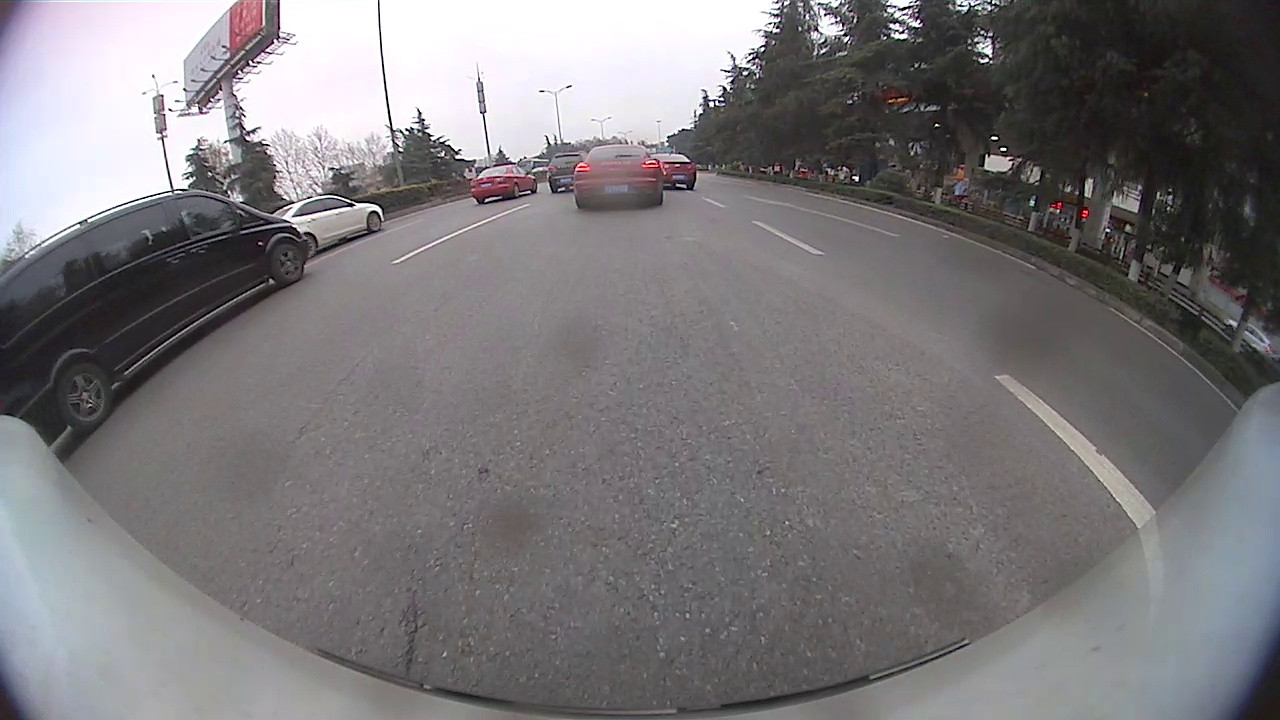car: (2, 192, 312, 438), (275, 190, 388, 250), (571, 145, 665, 210), (472, 166, 536, 206), (654, 151, 699, 193), (549, 151, 588, 190)
front: (269, 242, 306, 287), (365, 211, 383, 234)
rear: (54, 361, 115, 431), (300, 233, 319, 261), (511, 184, 521, 200)
